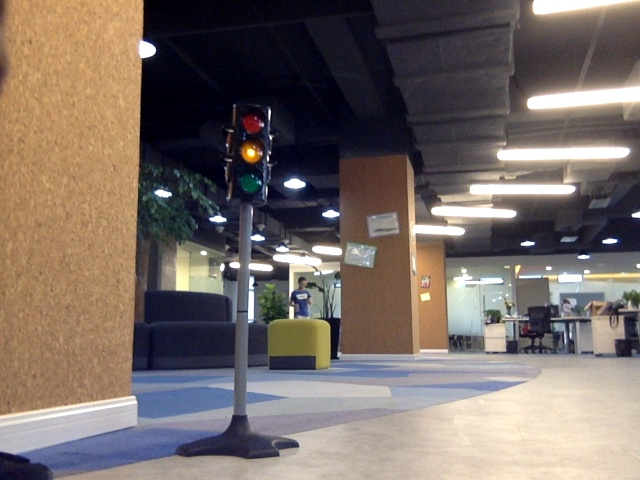yellow: (233, 108, 263, 195)
